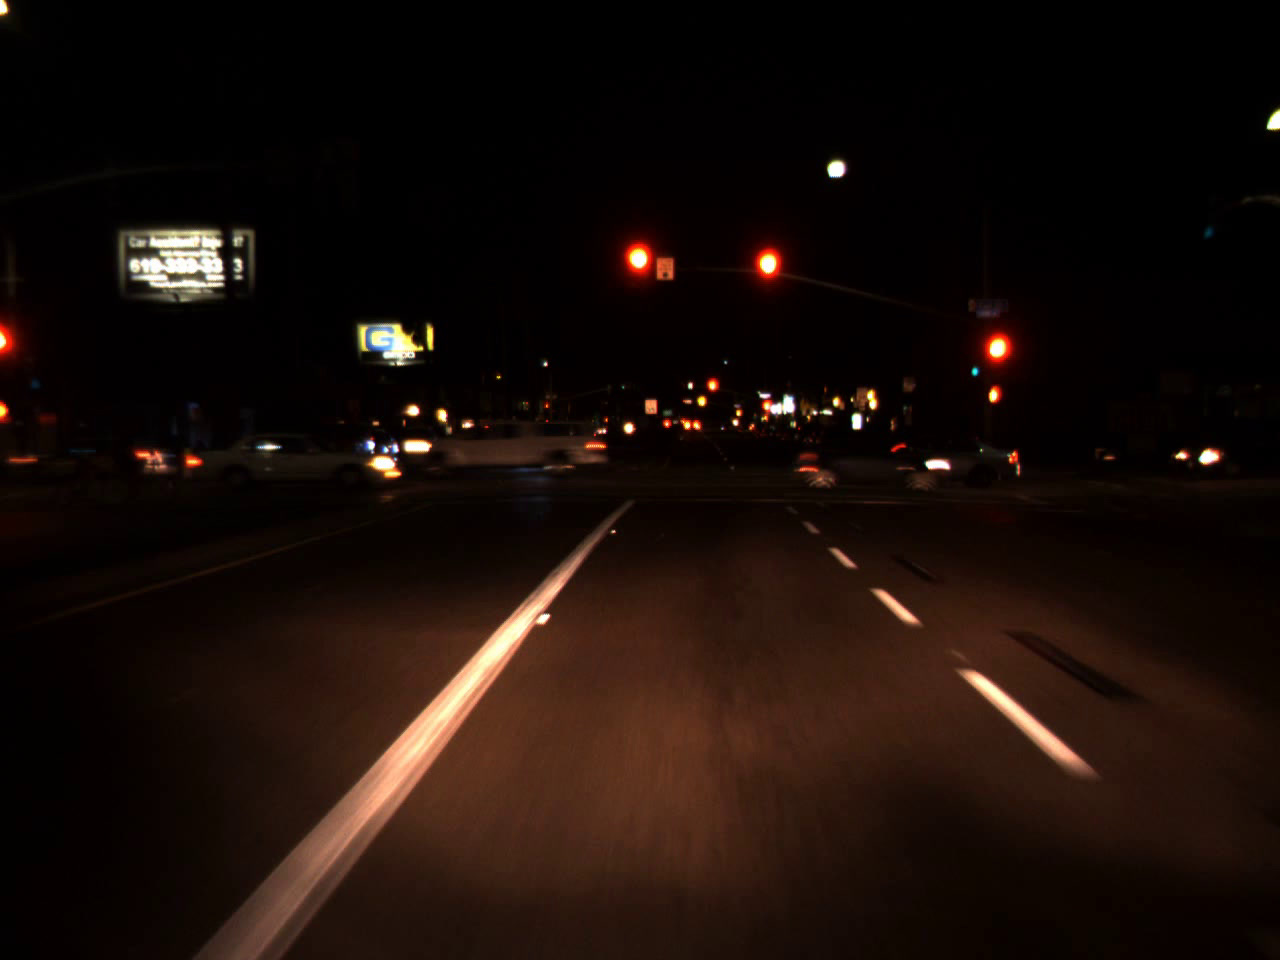stop: (749, 241, 786, 319), (979, 327, 1016, 402), (620, 241, 657, 316), (705, 376, 720, 408), (762, 401, 771, 419)
warning: (697, 390, 707, 410), (734, 405, 741, 419)
